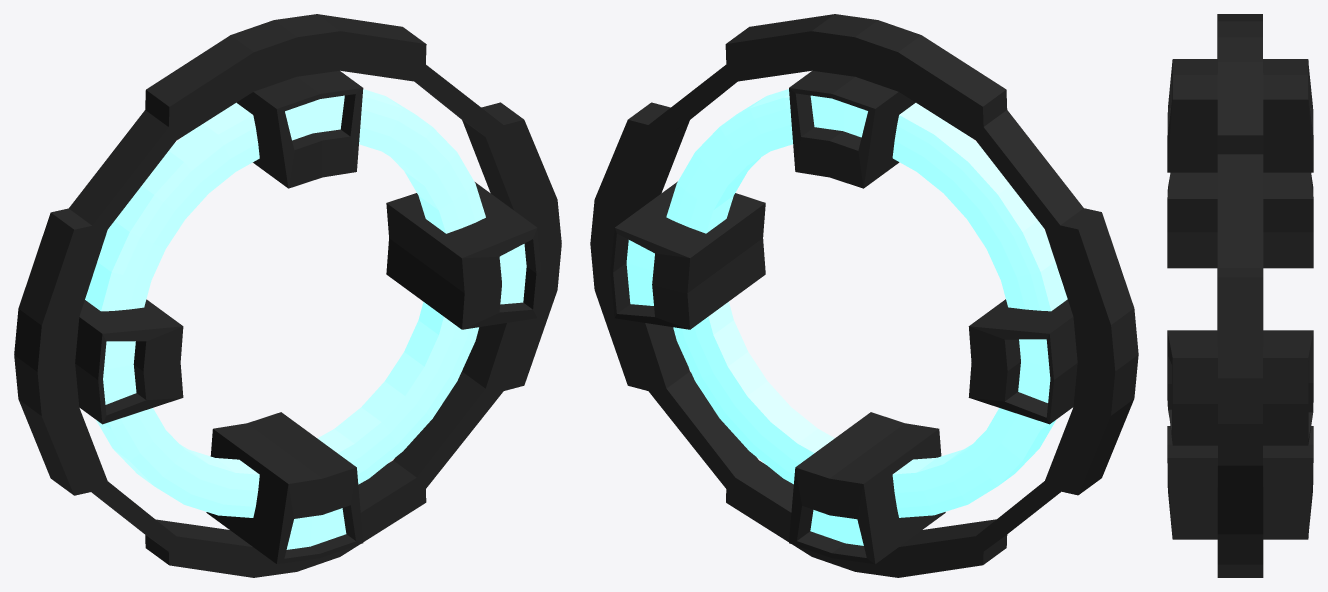
The model's file is Goal.glb.
3 renders of one model, left to right at view 1: azimuth 30°, elevation 25°; view 2: azimuth 150°, elevation 25°; view 3: azimuth 270°, elevation 25°, orthographic. The views are drawn at different scales.
Visible parts, largest first — view 1: OuterRing -col, InnerRing -col; view 2: OuterRing -col, InnerRing -col; view 3: OuterRing -col.
Boxes of the visible parts, box(x1,y1,x2,y2) form: OuterRing -col: box(14, 14, 561, 577); InnerRing -col: box(85, 89, 485, 517); OuterRing -col: box(590, 14, 1138, 577); InnerRing -col: box(666, 89, 1067, 517); OuterRing -col: box(1167, 14, 1313, 577).
Size of the model in its own units: 10.97 by 10.69 by 2.74.
